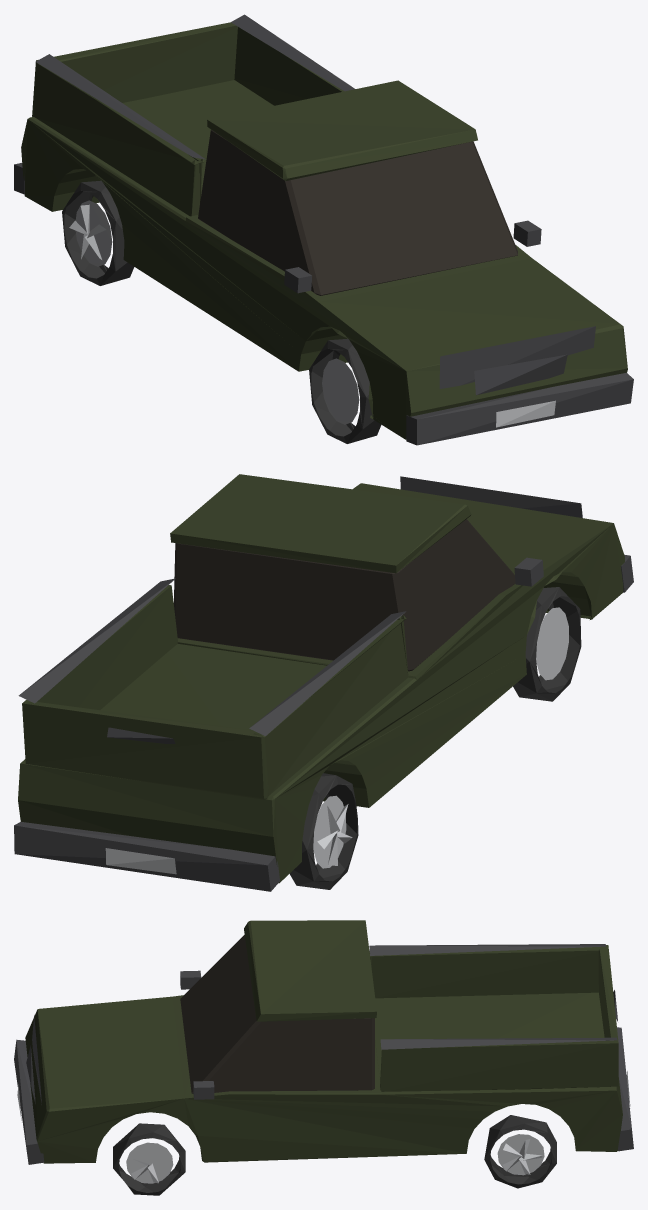
The model's file is pickup-wreck-lod1.glb.
3 renders of one model, top to bottom at view 1: azimuth 30°, elevation 25°; view 2: azimuth 150°, elevation 25°; view 3: azimuth 270°, elevation 25°, orthographic. The views are drawn at different scales.
Size of the model in its own units: 2.29 by 1.92 by 5.5.
